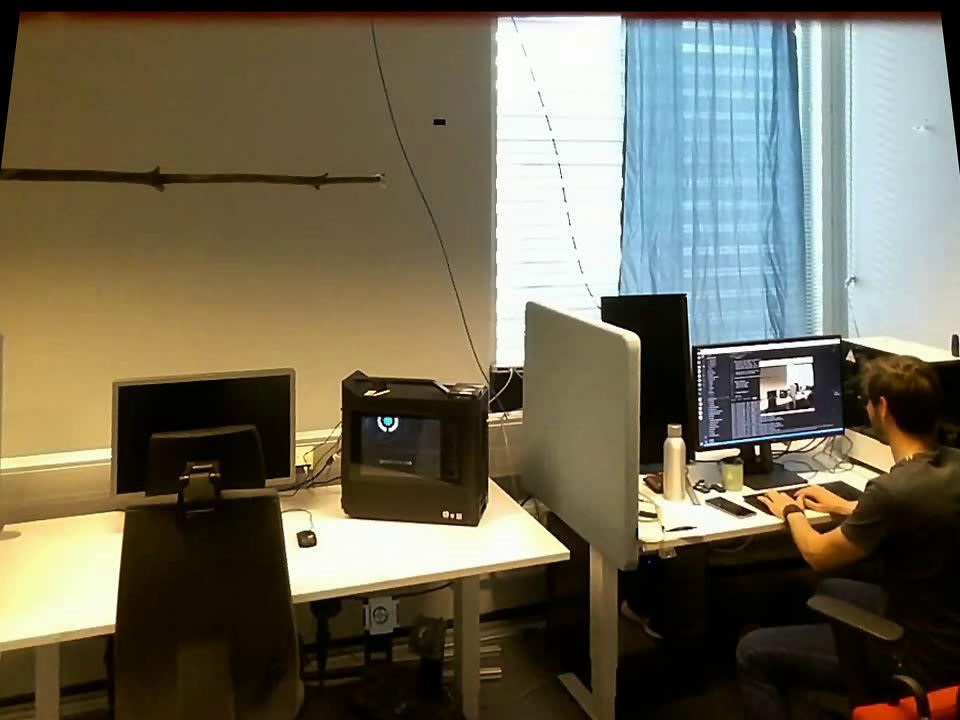branch: (2, 155, 374, 204)
